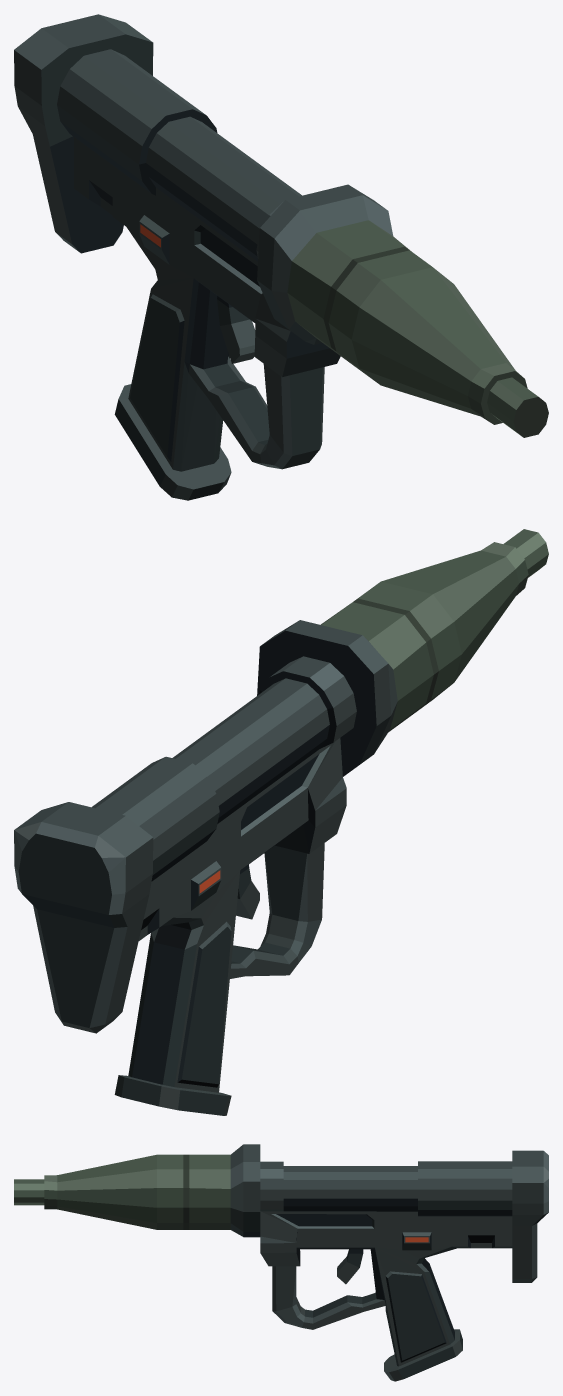
File: SSG_Guns_Pack_06.fbx
3 renders of one model, top to bottom at view 1: azimuth 30°, elevation 25°; view 2: azimuth 150°, elevation 25°; view 3: azimuth 270°, elevation 25°, orthographic. The views are drawn at different scales.
Parts seen in each view (by area): view 1: SSG_Guns_Pack_06, SSG_Guns_Pack_06_Trigger; view 2: SSG_Guns_Pack_06, SSG_Guns_Pack_06_Trigger; view 3: SSG_Guns_Pack_06, SSG_Guns_Pack_06_Trigger.
Part boxes in pixels (left/top/right/bottom): SSG_Guns_Pack_06: left=14, top=14, right=548, bottom=500; SSG_Guns_Pack_06_Trigger: left=217, top=296, right=255, bottom=363; SSG_Guns_Pack_06: left=14, top=529, right=548, bottom=1115; SSG_Guns_Pack_06_Trigger: left=236, top=864, right=259, bottom=919; SSG_Guns_Pack_06: left=14, top=1144, right=548, bottom=1381; SSG_Guns_Pack_06_Trigger: left=337, top=1249, right=363, bottom=1284.
Bounding box in the file's own units: 0.0912 × 0.2826 × 0.6151.
